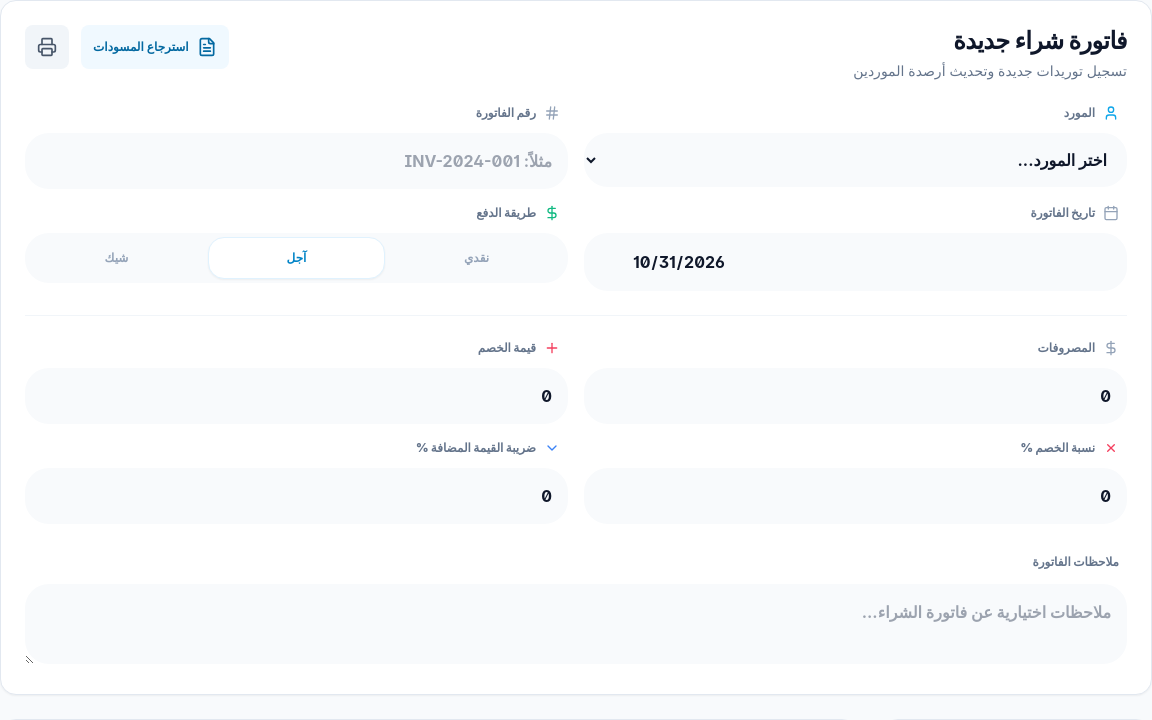
Test: rendered purchase-invoice flow › exposes labeled header controls and explicit payment selection state
Expected: the dropdown labelled "المورد" is shown, [584,133,1127,187]
Expected: the field labelled "رقم الفاتورة" is shown, [25,133,568,189]
Click the button "شيك": click(116, 258) [29,237,204,279]
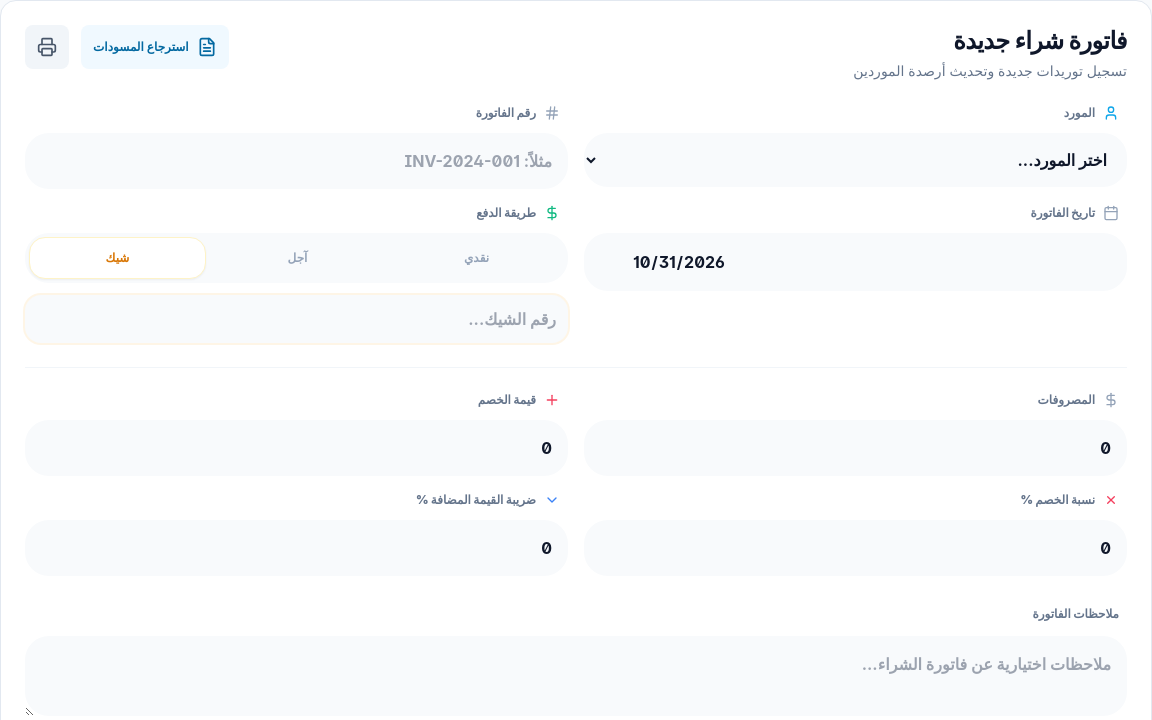
Expected: the field labelled "رقم الشيك" is shown, [25,295,568,343]
